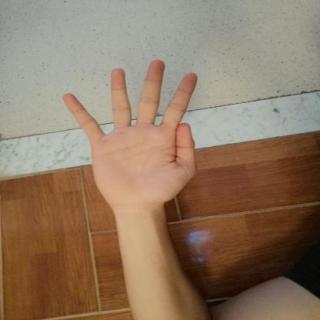SHEEN: (50, 53, 213, 211)
